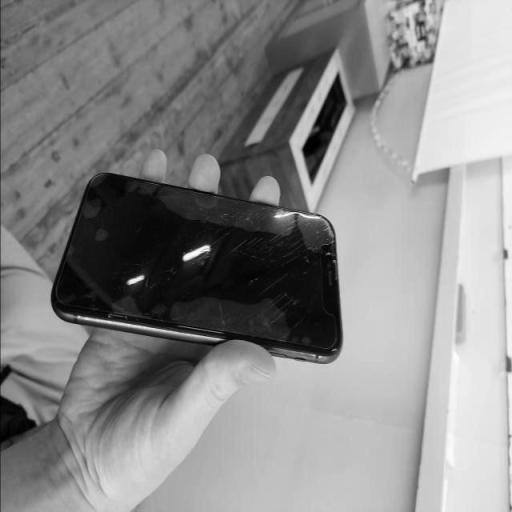phone: (48, 164, 352, 351)
